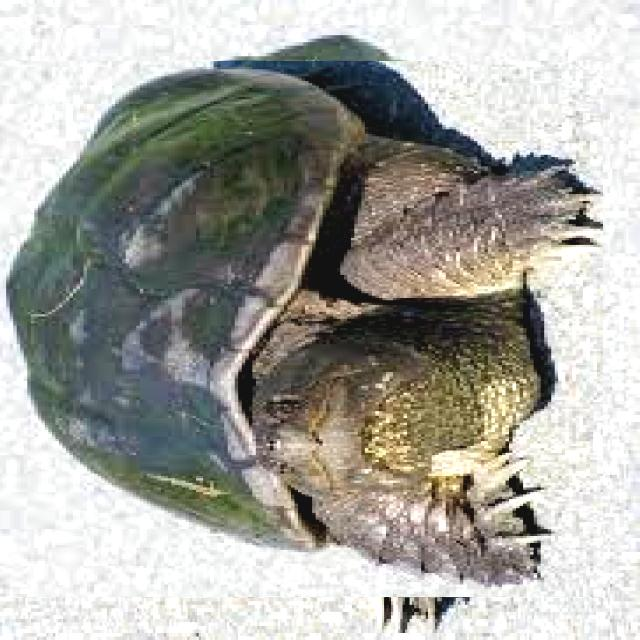Sea turtle: (13, 43, 586, 615)
